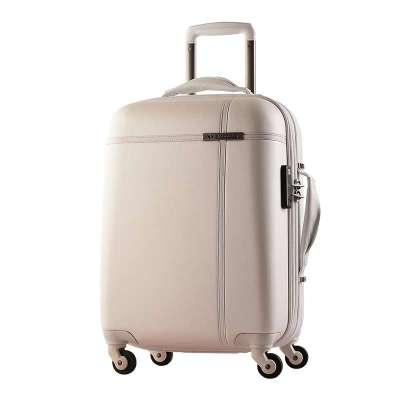luggage: (101, 19, 318, 379)
